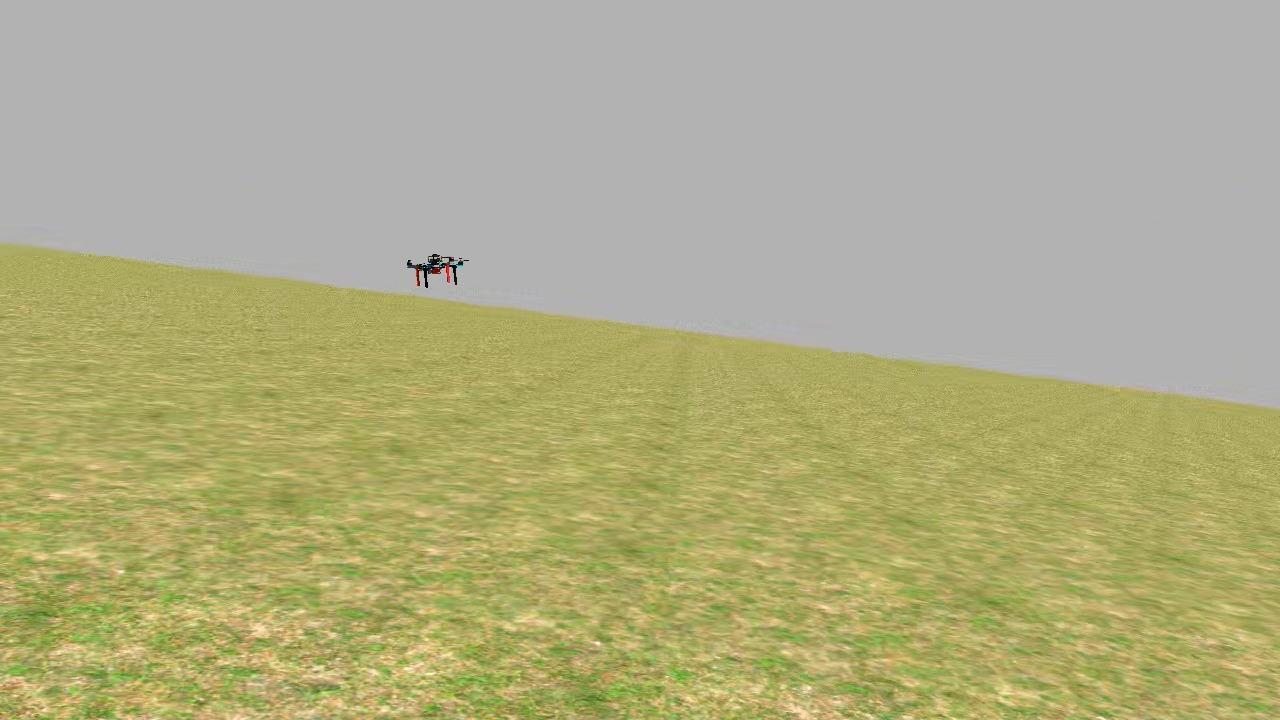UAV: (401, 242, 470, 295)
